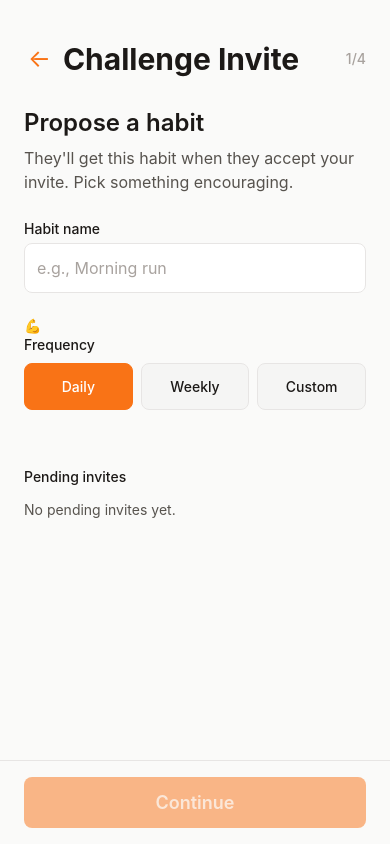
Test: CreateChallengeInviteScreen proposal step validation › requires custom days for weekly frequency
Type "Morning run" into the field with test id "invite-habit-name".
click(195, 268); type("Morning run")  # box [24,243,366,293]
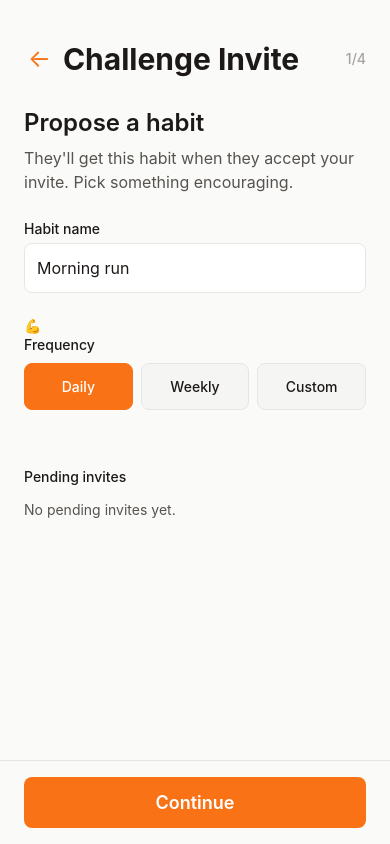
Click the radio button with test id "freq-weekly".
click(195, 386)  # box [141,363,249,410]
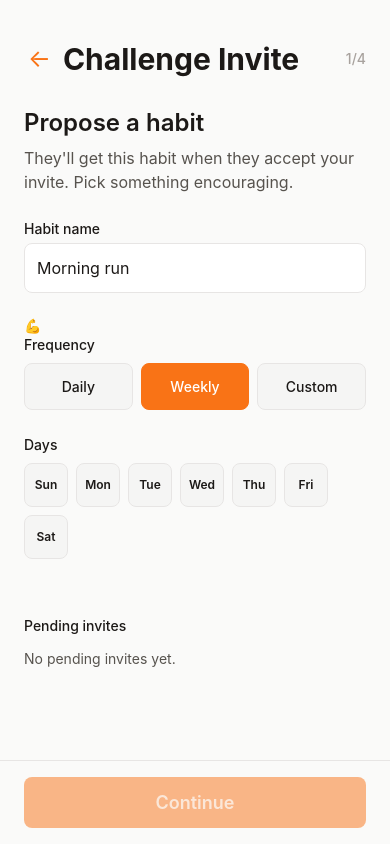
Expected: the button with aria-label "Continue to next step" is disabled, [24,777,366,828]
Click the checkbox with test id "day-Mon".
click(98, 485)  # box [76,463,120,507]
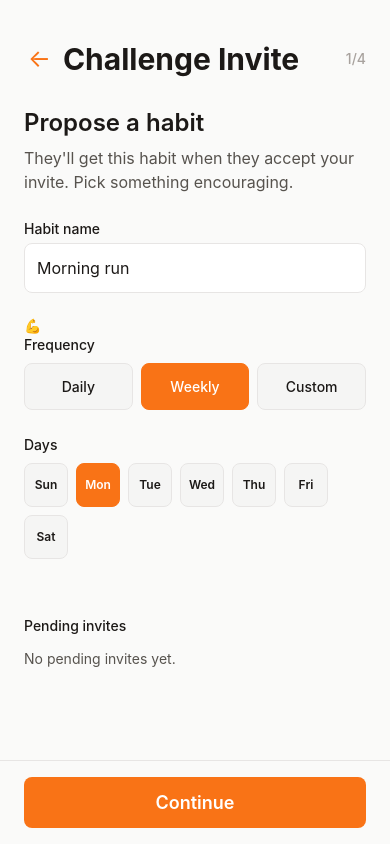
Expected: the button with aria-label "Continue to next step" is enabled, [24,777,366,828]
